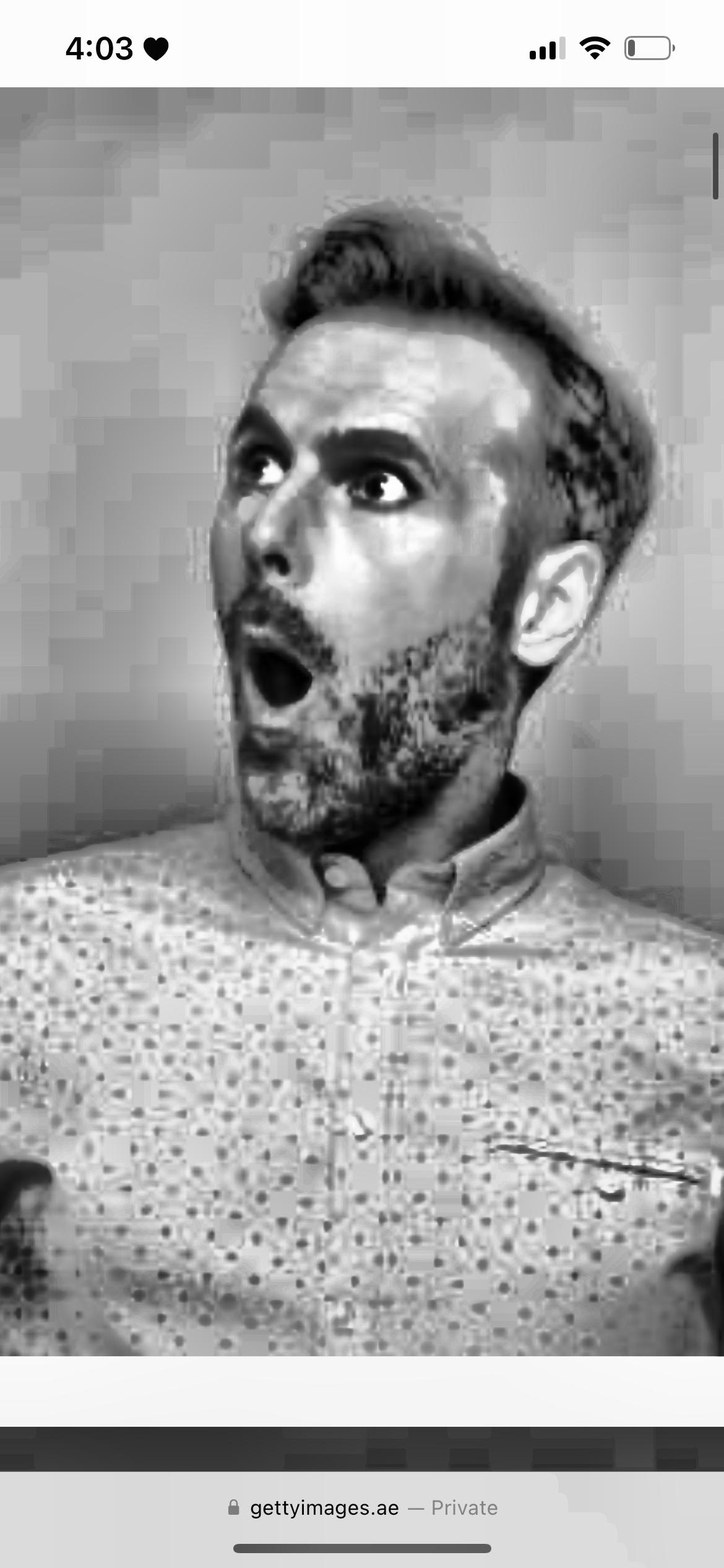surprised: (211, 316, 511, 849)
